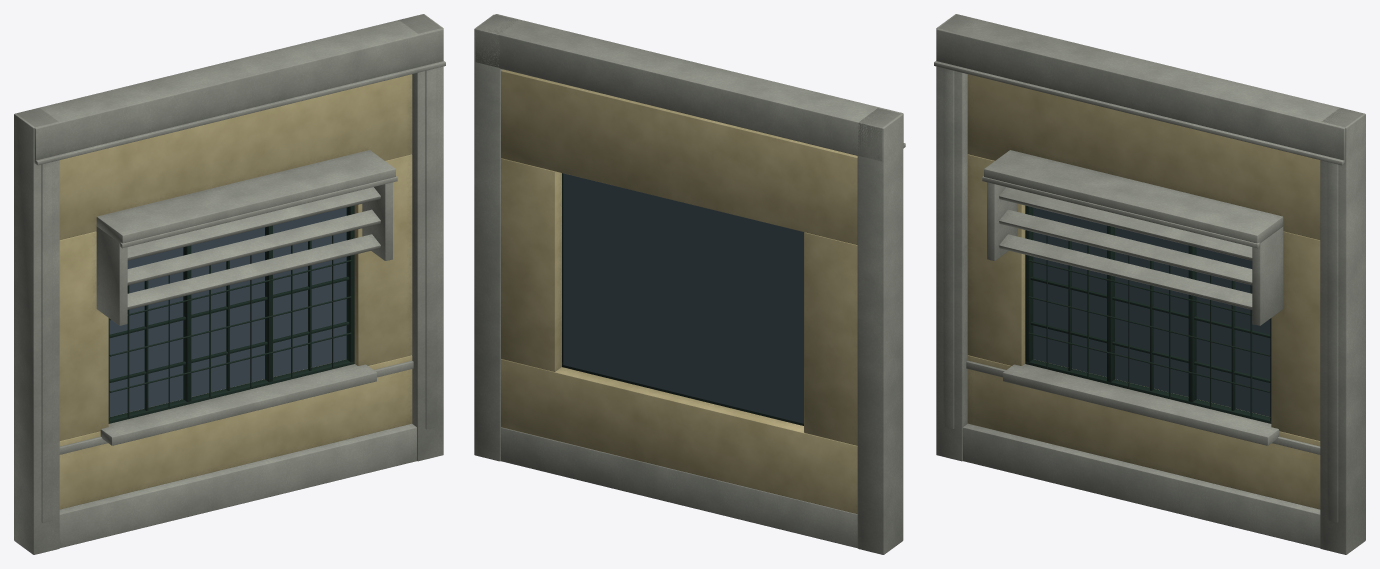
Rendered from CTCC_ENV_MainFacadeBay_1987.fbx.
3 renders of one model, left to right at view 1: azimuth 30°, elevation 25°; view 2: azimuth 150°, elevation 25°; view 3: azimuth 330°, elevation 25°, orthographic.
Visible parts, largest first — view 1: CTCC_ENV_MainFacadeBay_1987_LOD0; view 2: CTCC_ENV_MainFacadeBay_1987_LOD0; view 3: CTCC_ENV_MainFacadeBay_1987_LOD0.
Boxes of the visible parts, x1,y1,x2,y2 form: CTCC_ENV_MainFacadeBay_1987_LOD0: (14, 14, 445, 554); CTCC_ENV_MainFacadeBay_1987_LOD0: (474, 14, 905, 554); CTCC_ENV_MainFacadeBay_1987_LOD0: (934, 14, 1365, 554).
Size of what is drawn, in the model's own units: 4.02 by 4 by 0.7.
